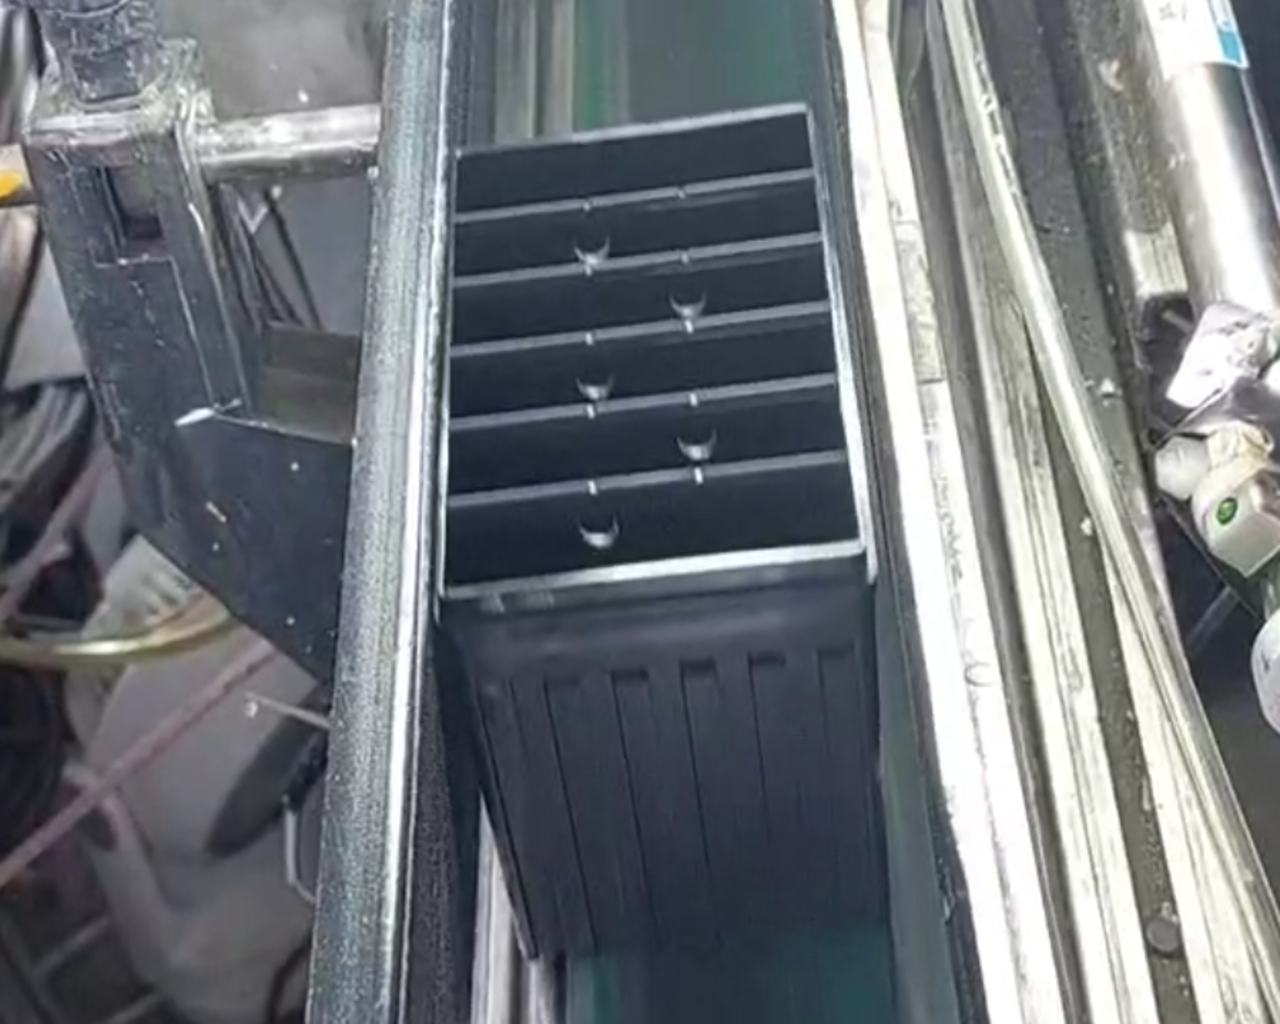box: (418, 85, 890, 641)
round: (657, 410, 727, 466), (567, 499, 632, 556), (650, 269, 718, 322), (559, 354, 627, 404), (563, 216, 620, 267)
